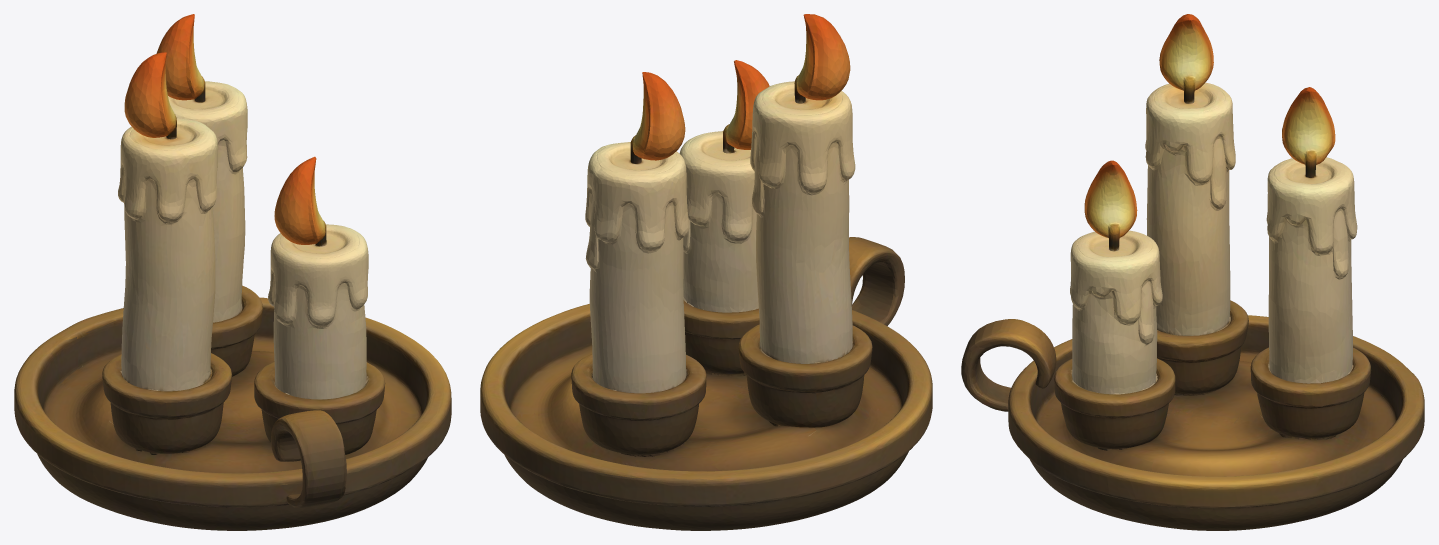
File: candle_13.glb
3 views of the same model, side by side, from view 1: azimuth 30°, elevation 25°; view 2: azimuth 150°, elevation 25°; view 3: azimuth 270°, elevation 25° (orthographic). The views are drawn at different scales.
Visible parts, largest first — view 1: tripo_node_d95a4b3e-83ba-4daa-b1c1-5d32e5e5211e, tripo_node_d95a4b3e-83ba-4daa-b1c1-5d32e5e5211e.001; view 2: tripo_node_d95a4b3e-83ba-4daa-b1c1-5d32e5e5211e, tripo_node_d95a4b3e-83ba-4daa-b1c1-5d32e5e5211e.001; view 3: tripo_node_d95a4b3e-83ba-4daa-b1c1-5d32e5e5211e, tripo_node_d95a4b3e-83ba-4daa-b1c1-5d32e5e5211e.001.
Part boxes in pixels (left/top/right/bottom): tripo_node_d95a4b3e-83ba-4daa-b1c1-5d32e5e5211e: left=14, top=14, right=451, bottom=530; tripo_node_d95a4b3e-83ba-4daa-b1c1-5d32e5e5211e.001: left=274, top=156, right=326, bottom=245; tripo_node_d95a4b3e-83ba-4daa-b1c1-5d32e5e5211e: left=480, top=14, right=932, bottom=530; tripo_node_d95a4b3e-83ba-4daa-b1c1-5d32e5e5211e.001: left=723, top=60, right=769, bottom=153; tripo_node_d95a4b3e-83ba-4daa-b1c1-5d32e5e5211e: left=961, top=14, right=1424, bottom=530; tripo_node_d95a4b3e-83ba-4daa-b1c1-5d32e5e5211e.001: left=1084, top=160, right=1137, bottom=251.
Size of the model in its own units: 0.8607 by 0.9387 by 0.9797.
Materials: 2 (2 with a texture image).
